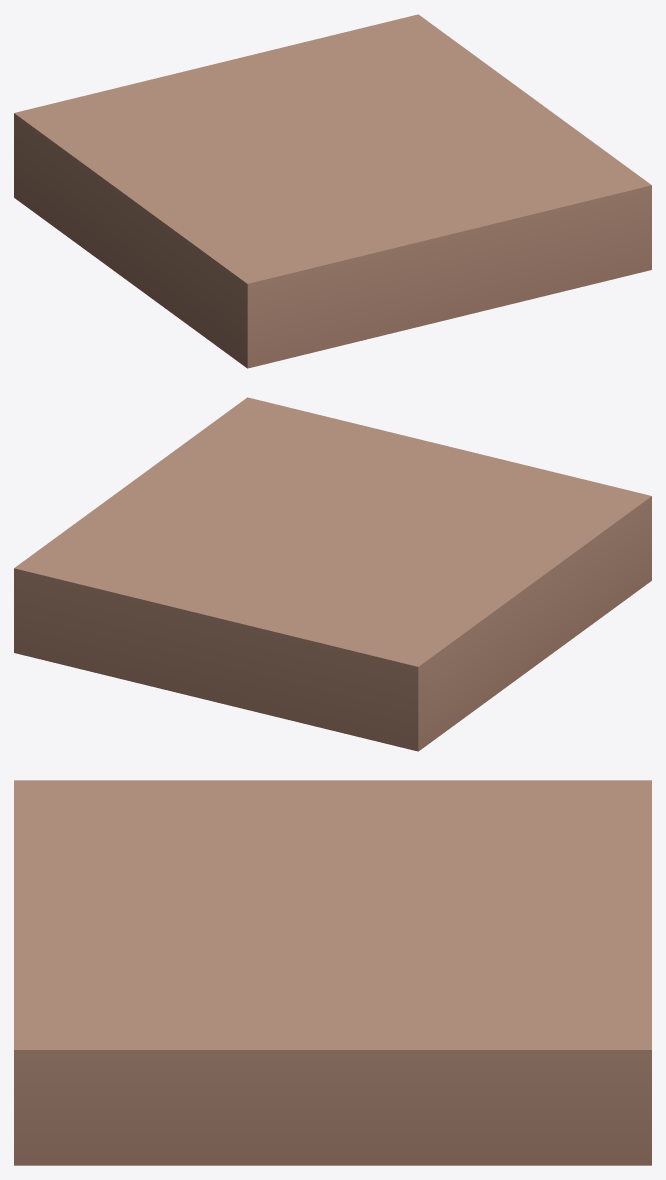
File: quarter-surface-square.glb
The picture shows the model from 3 angles, top to bottom: view 1: azimuth 30°, elevation 25°; view 2: azimuth 150°, elevation 25°; view 3: azimuth 270°, elevation 25°; orthographic projection. The views are drawn at different scales.
Parts seen in each view (by area): view 1: quarter-surface-square; view 2: quarter-surface-square; view 3: quarter-surface-square.
Part boxes in pixels (box(x1,y1,x2,y2)): quarter-surface-square: box(14, 14, 651, 368); quarter-surface-square: box(14, 397, 651, 751); quarter-surface-square: box(14, 780, 651, 1165).
Size of the model in its own units: 0.5 by 0.1 by 0.5.
